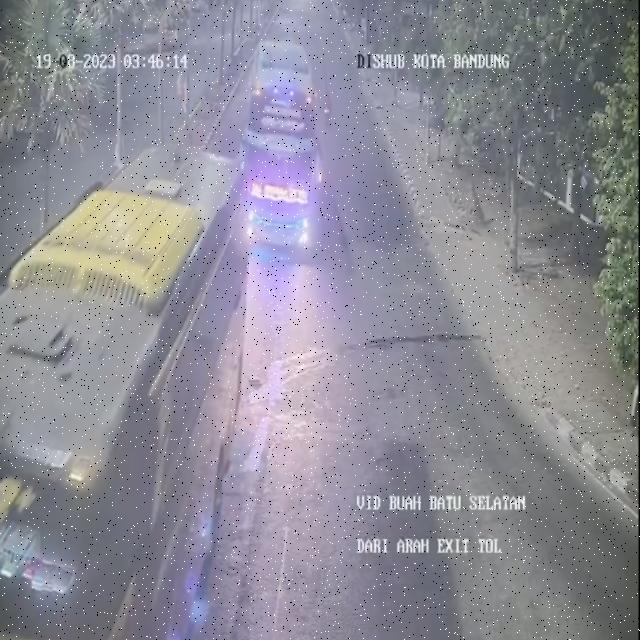bus: (0, 146, 249, 639), (240, 28, 321, 261)
